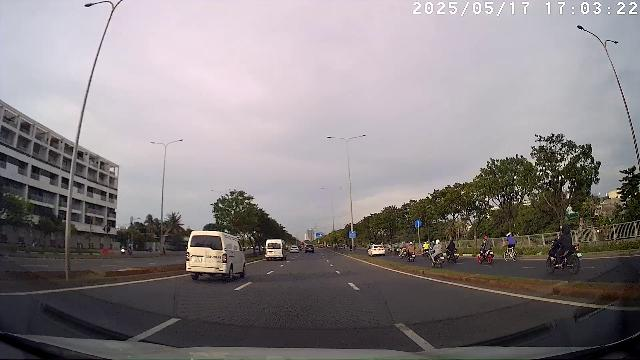301a-cac-xe-chi-duoc-di-thang: (414, 220, 422, 228)
